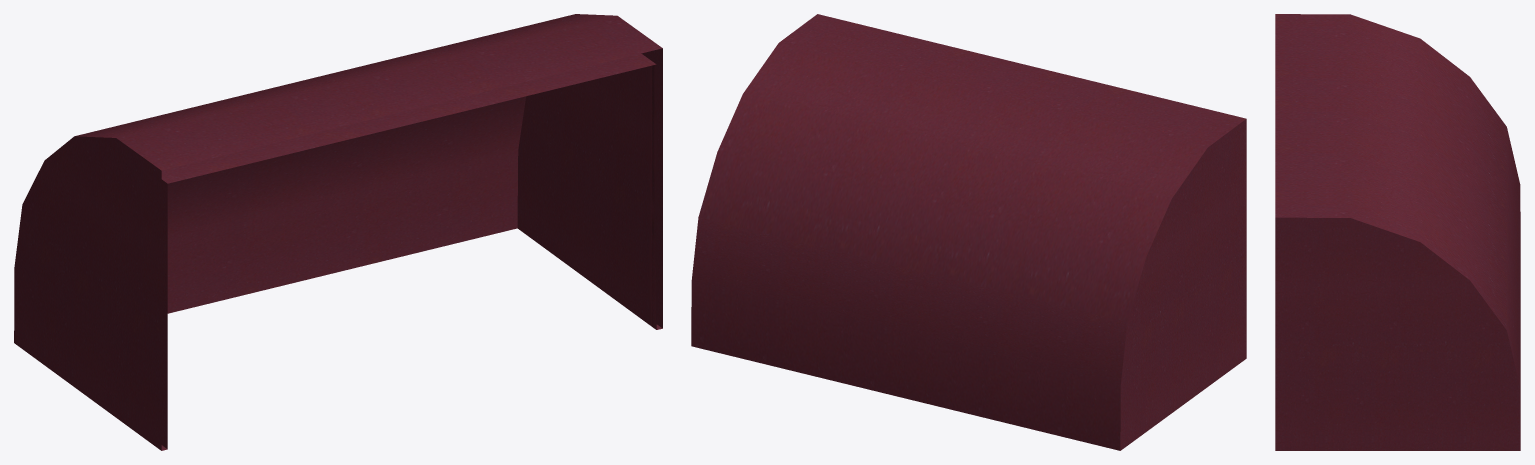
3 views of the same model, side by side, from view 1: azimuth 30°, elevation 25°; view 2: azimuth 150°, elevation 25°; view 3: azimuth 270°, elevation 25° (orthographic). The views are drawn at different scales.
Visible parts, largest first — view 1: Cylinder (15); view 2: Cylinder (15); view 3: Cylinder (15).
Part boxes in pixels (<box>): Cylinder (15): <box>14,14,662,450</box>; Cylinder (15): <box>691,14,1246,450</box>; Cylinder (15): <box>1275,14,1520,450</box>.
Size of the model in its own units: 441 by 236 by 225.
